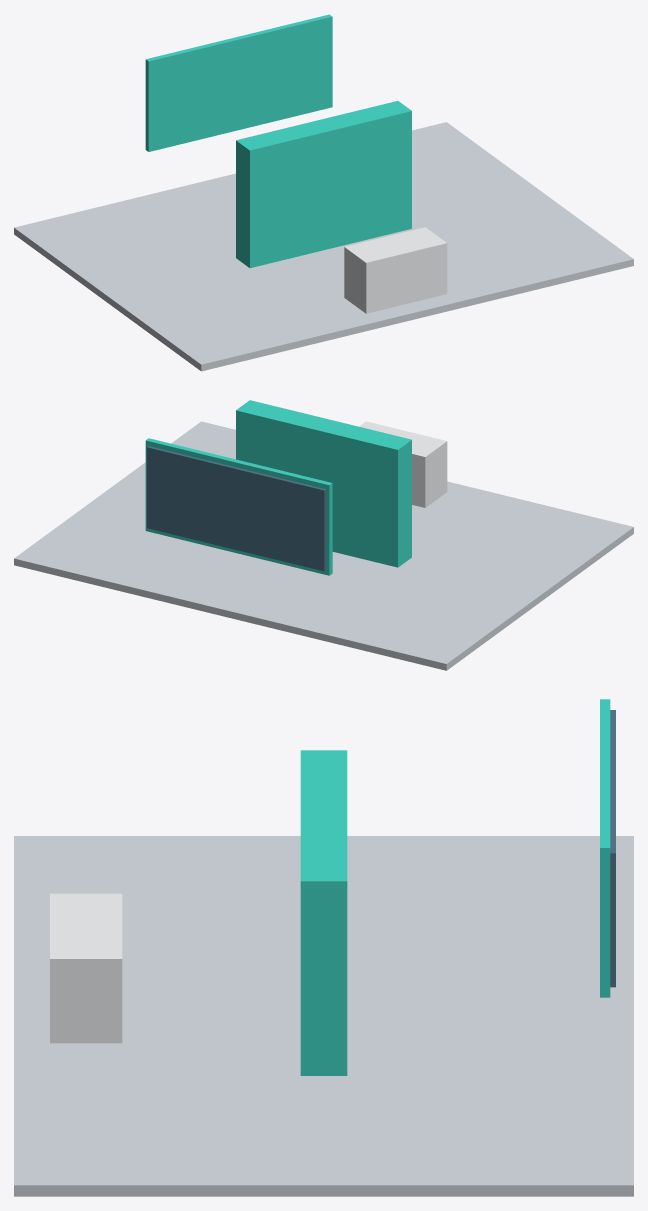
3 views of the same model, one above another, from view 1: azimuth 30°, elevation 25°; view 2: azimuth 150°, elevation 25°; view 3: azimuth 270°, elevation 25° (orthographic). The views are drawn at different scales.
Visible parts, largest first — view 1: Exhibition Booth Concept; view 2: Exhibition Booth Concept; view 3: Exhibition Booth Concept.
Boxes of the visible parts, x1,y1,x2,y2 form: Exhibition Booth Concept: (14,14,633,371); Exhibition Booth Concept: (14,400,633,670); Exhibition Booth Concept: (14,699,633,1196).
Bounding box in the file's own units: 8 × 2.65 × 6.
